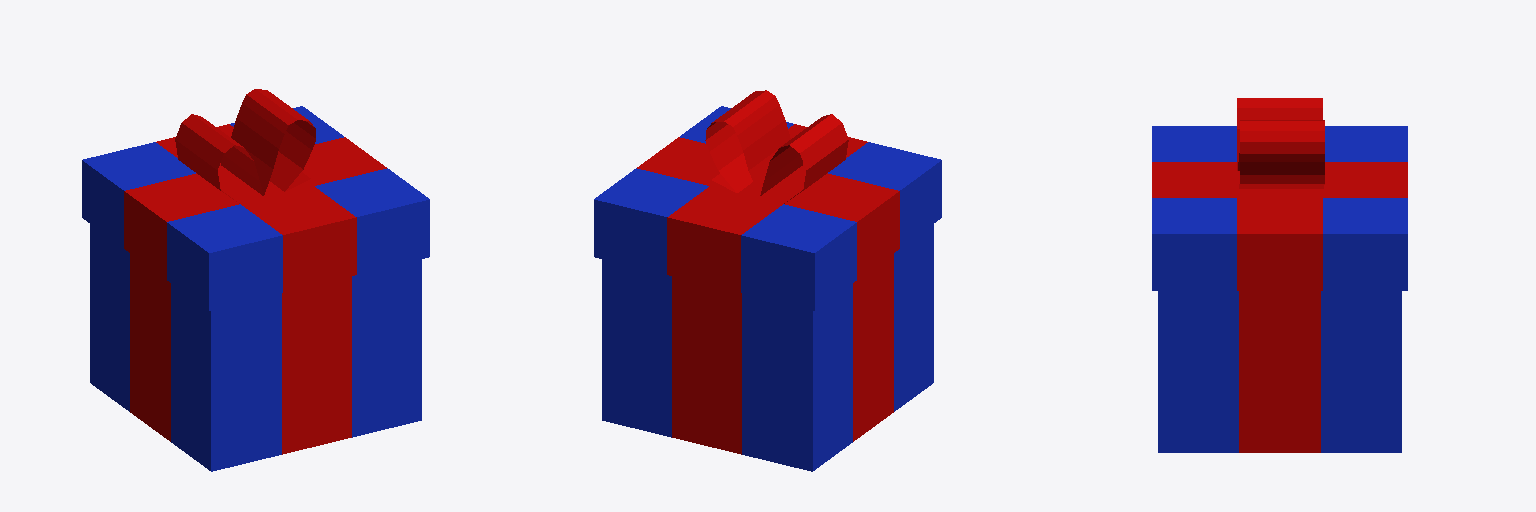
Rendered from Gift 2.obj.
3 views of the same model, side by side, from view 1: azimuth 30°, elevation 25°; view 2: azimuth 150°, elevation 25°; view 3: azimuth 270°, elevation 25° (orthographic).
Parts seen in each view (by area): view 1: Cube.001_Material, Cube.001_Material.001; view 2: Cube.001_Material, Cube.001_Material.001; view 3: Cube.001_Material, Cube.001_Material.001.
Part boxes in pixels (bbox=[...]): Cube.001_Material: bbox=[82, 106, 429, 471]; Cube.001_Material.001: bbox=[124, 89, 386, 454]; Cube.001_Material: bbox=[594, 106, 941, 471]; Cube.001_Material.001: bbox=[637, 90, 899, 454]; Cube.001_Material: bbox=[1152, 126, 1407, 452]; Cube.001_Material.001: bbox=[1152, 98, 1407, 452].
Bounding box in the file's own units: 2.1 × 2.64 × 2.1.